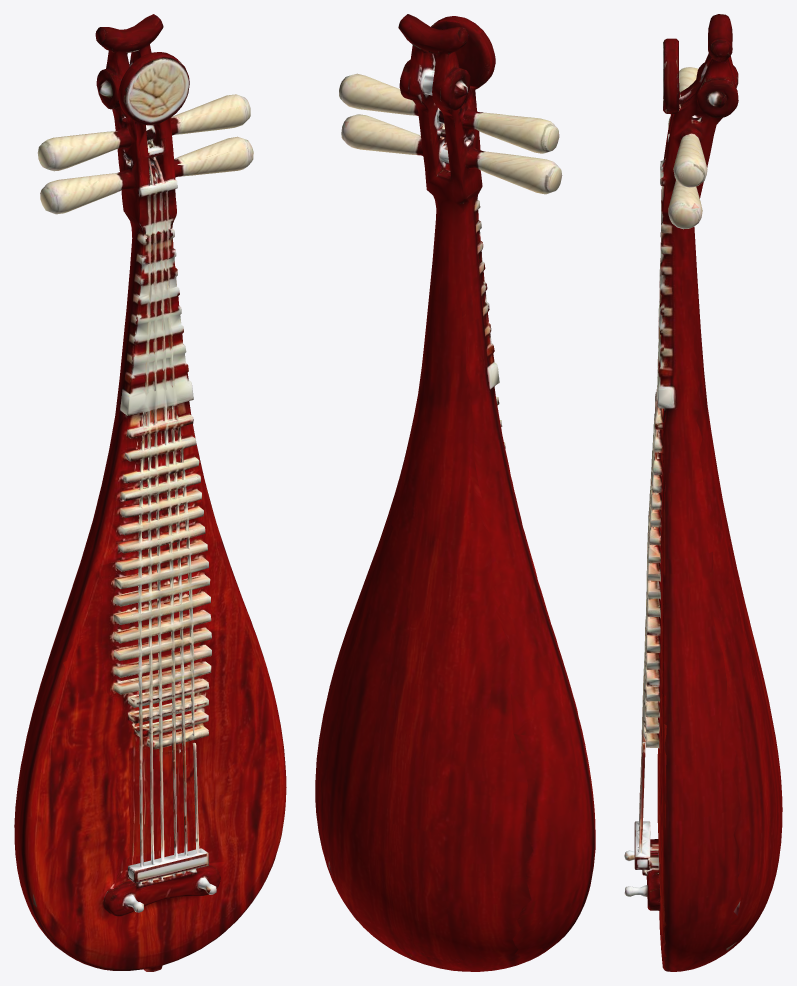
The model's file is pipa.glb.
3 renders of one model, left to right at view 1: azimuth 30°, elevation 25°; view 2: azimuth 150°, elevation 25°; view 3: azimuth 270°, elevation 25°, orthographic. The views are drawn at different scales.
Visible parts, largest first — view 1: mesh; view 2: mesh; view 3: mesh.
Part boxes in pixels (left/top/right/bottom): mesh: left=14, top=14, right=286, bottom=971; mesh: left=315, top=14, right=595, bottom=971; mesh: left=624, top=14, right=782, bottom=971.
Size of the model in its own units: 0.2935 by 1 by 0.1534.
1 material, 1 textured.
